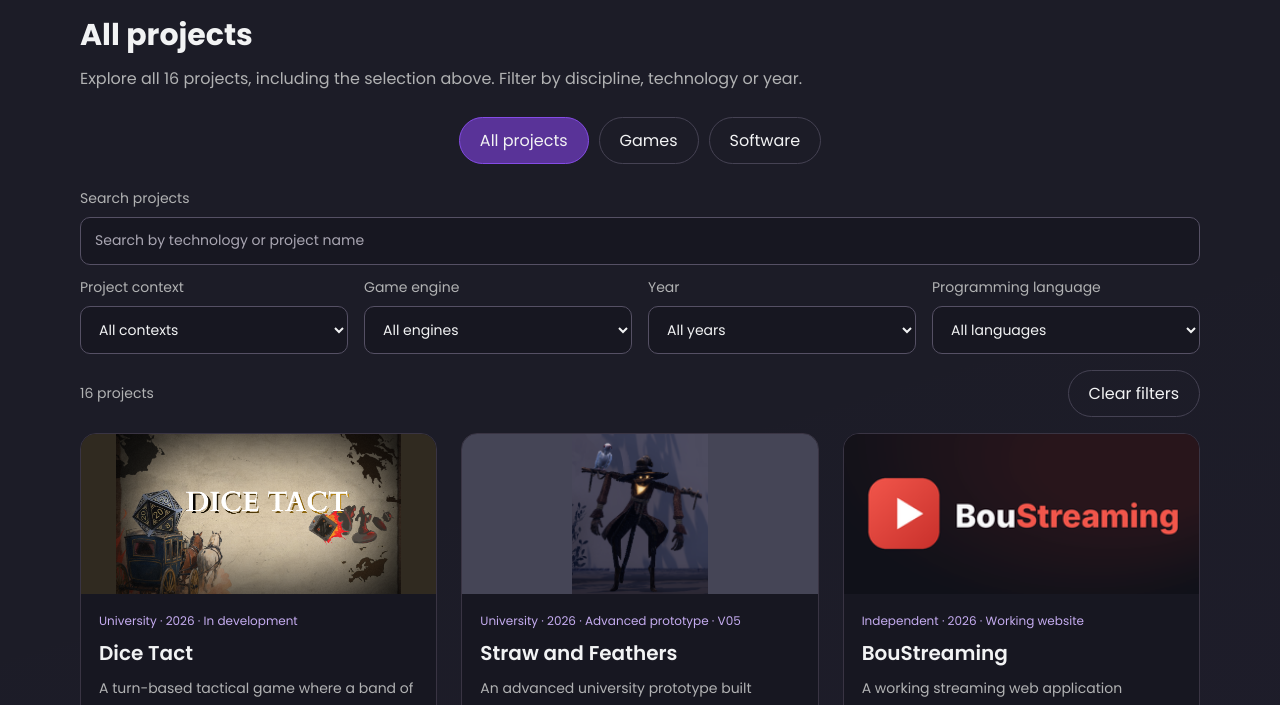
Scenario: treats invalid shared filter values as all and still allows the visitor to clear them
(page scrolled)
Check: the dropdown labelled "Project context" shows "All contexts", box [80,306,348,354]
Check: the dropdown labelled "Game engine" shows "All engines", box [364,306,632,354]
Click the button "Clear filters".
click(1134, 393)  # box [1068,370,1200,416]
(page scrolled)
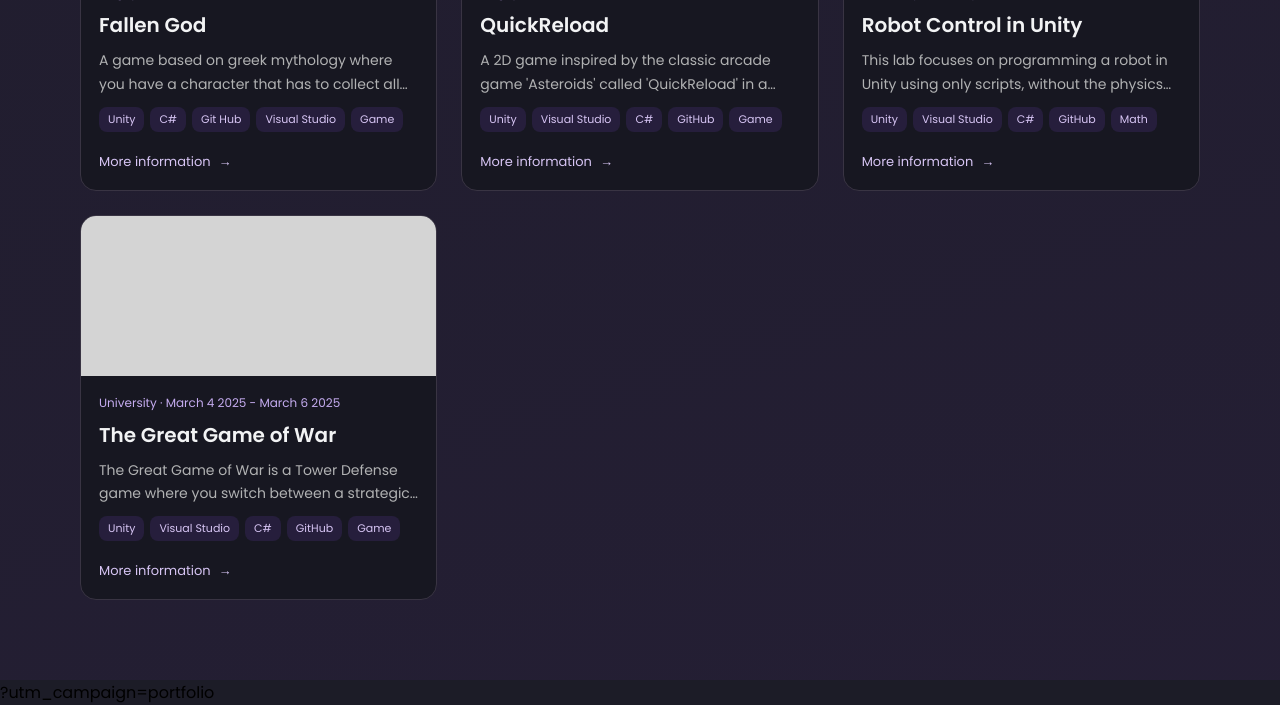
Check: the text with test id "query-location" reads "?utm_campaign=portfolio", box [0,681,214,704]
